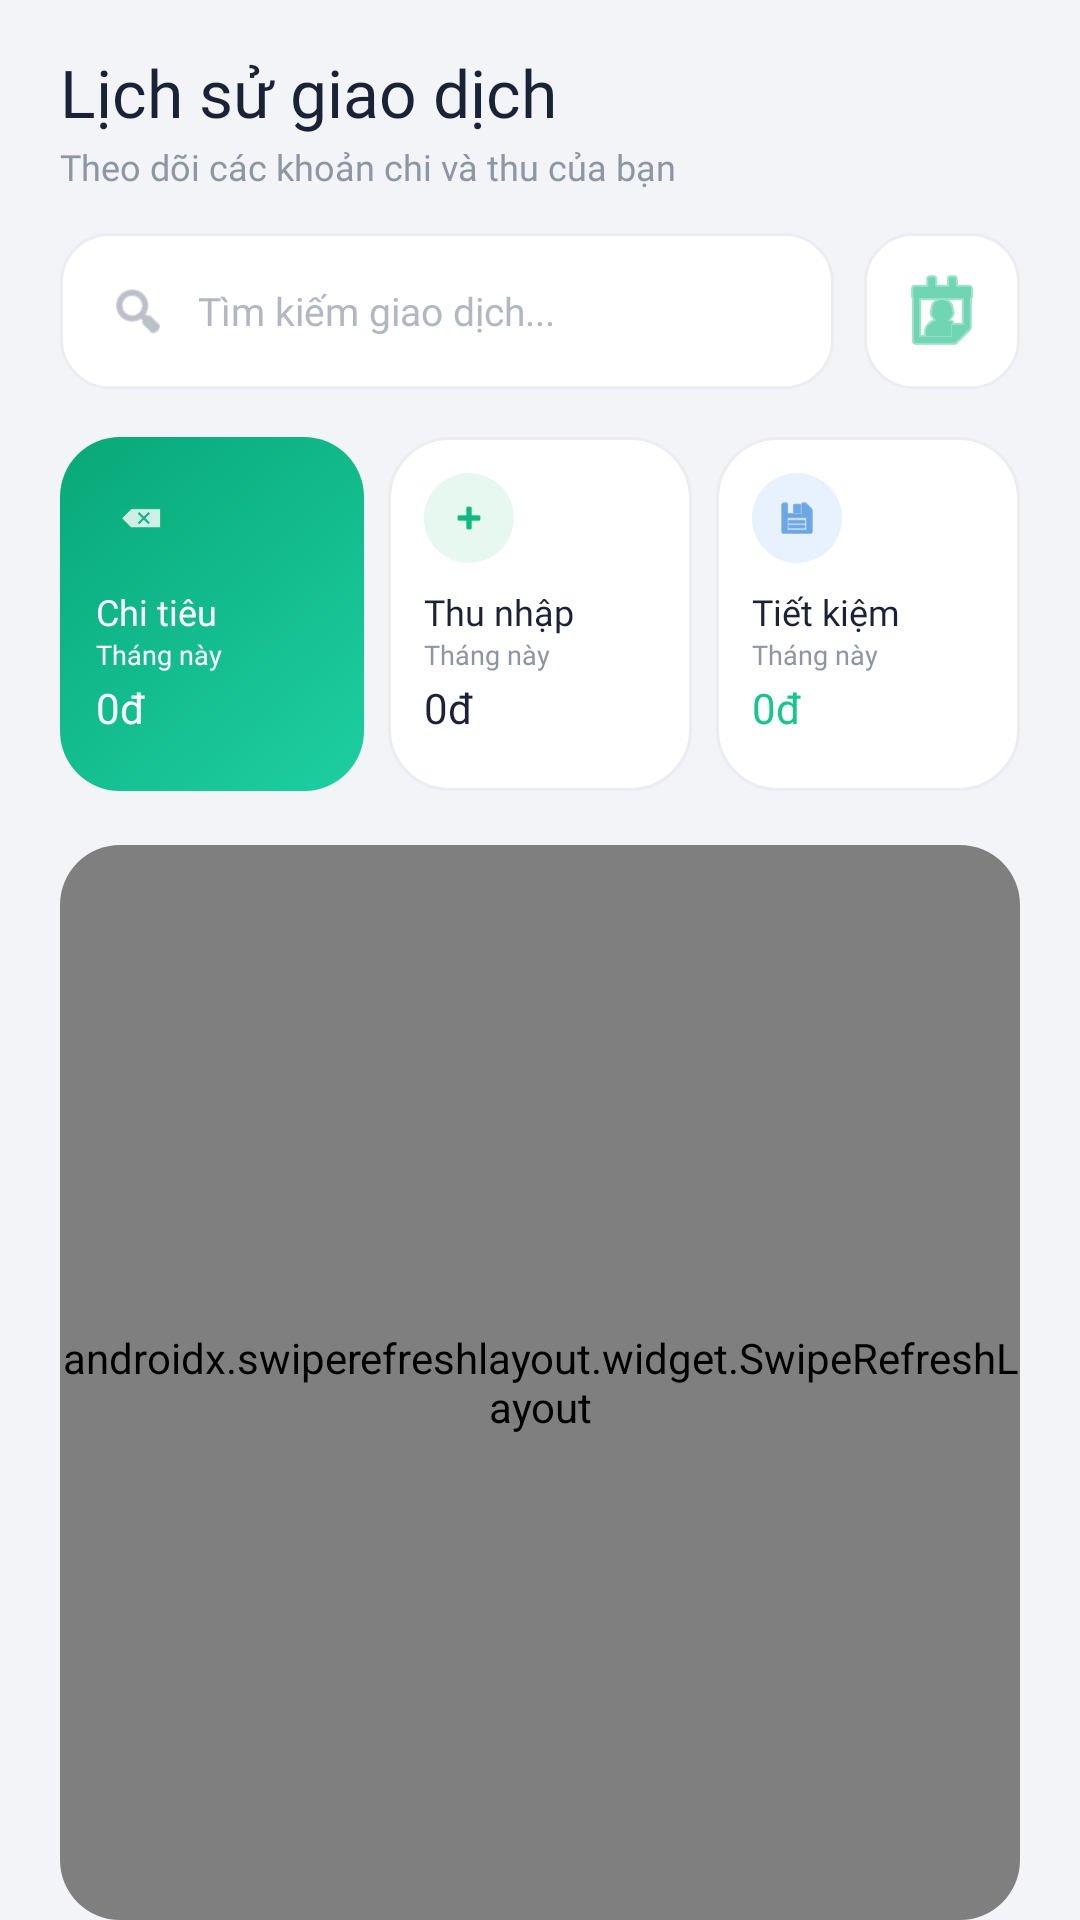

Icons on this 1080*1920 Android screen, each with the point to tap as [x,y]:
add: [469,518]
Chọn ngày: [942,310]
delete: [141,518]
save: [797,518]
search: [138,311]
